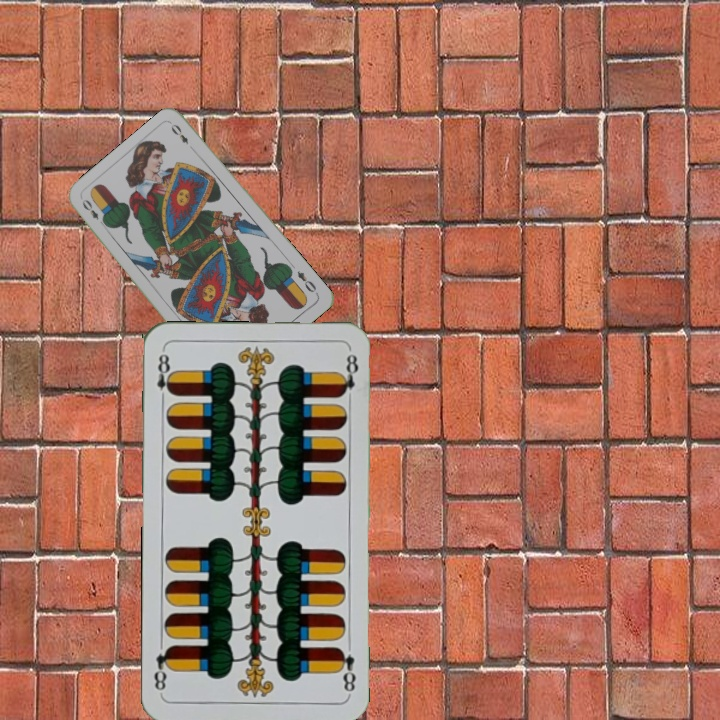E8: (153, 346, 176, 405), (334, 644, 358, 695)
EO: (78, 195, 108, 229), (293, 267, 319, 295)
